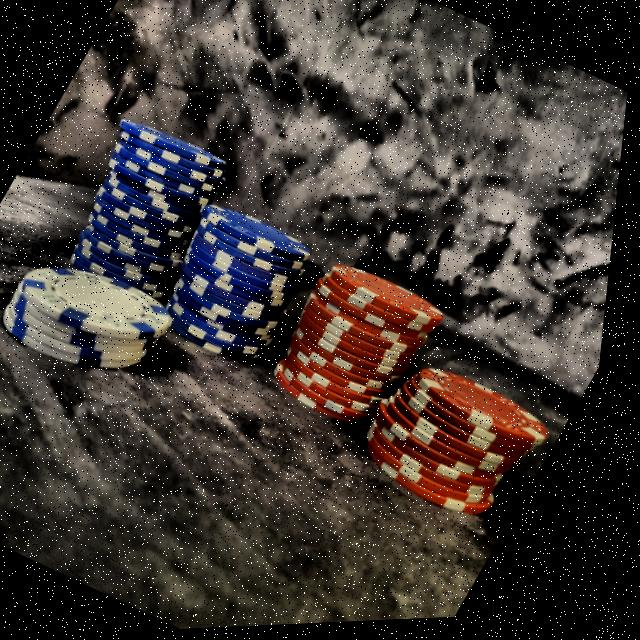Chip: (338, 322, 576, 545), (38, 90, 257, 324), (255, 231, 478, 459), (136, 181, 342, 393), (0, 213, 203, 407)
